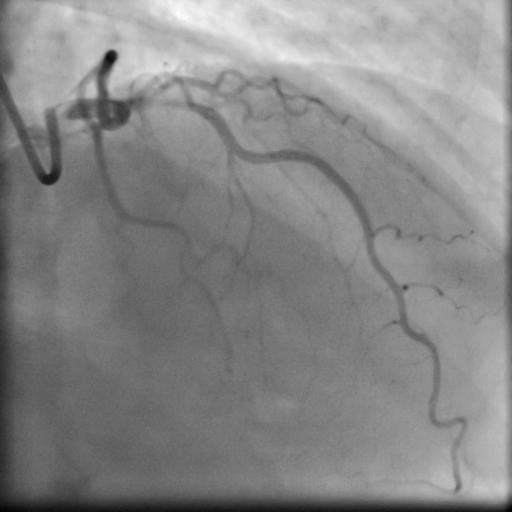Stenosis: (149, 95, 202, 109)
